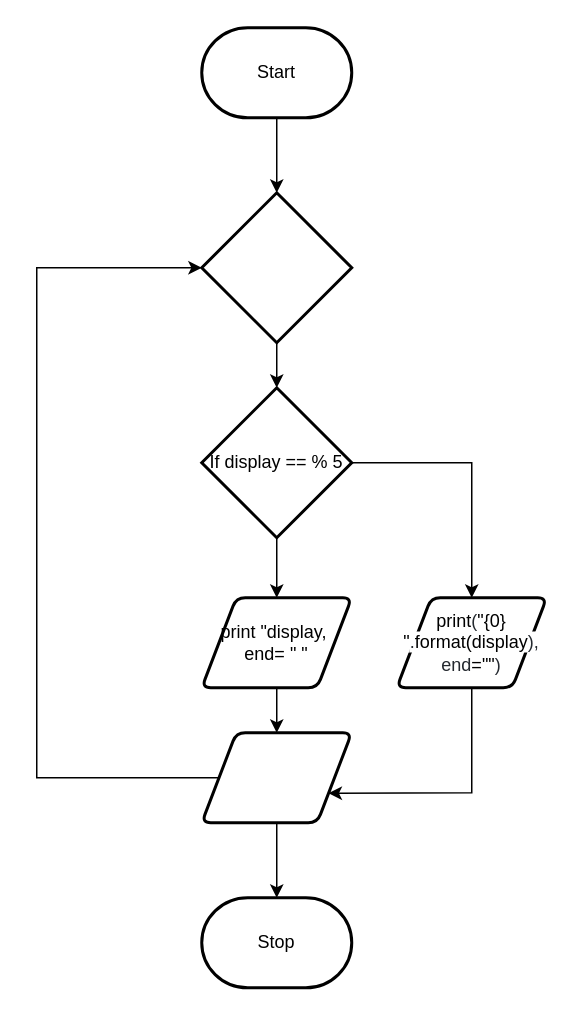
Some shapes in this 575 by 1014 pixel diagram are drawn without their labels. Each missing label, with the centre of its shape:
for = 1000, display =< 2000,, display++: pixel 276 267
print "Done": pixel 276 777
